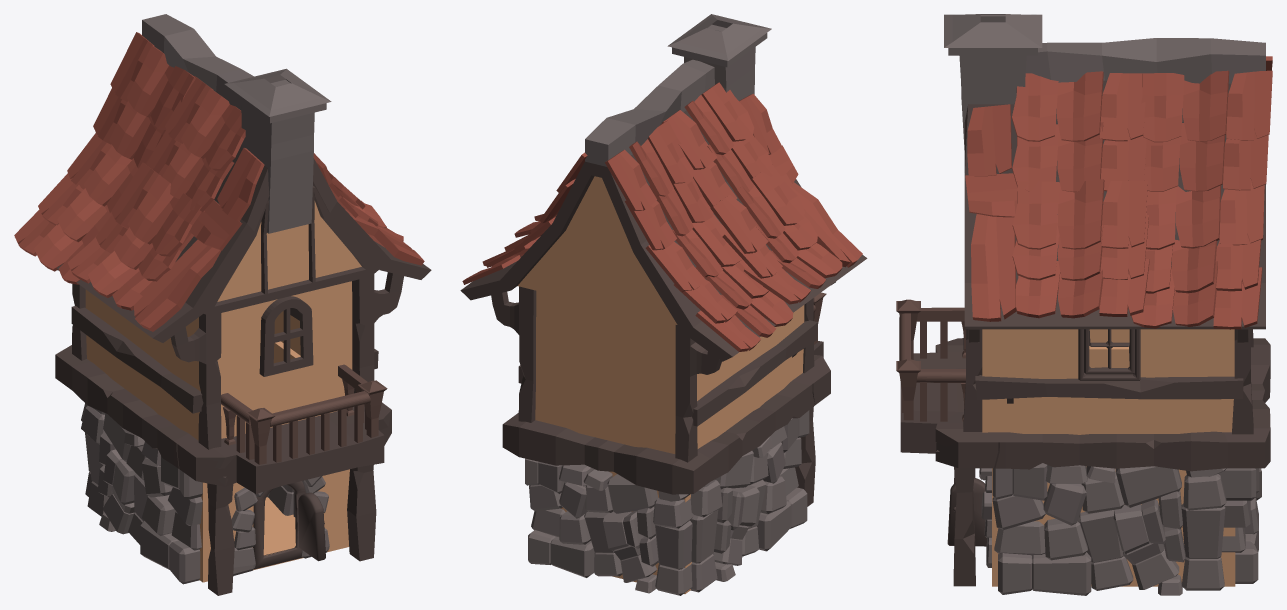
File: maison-petite-2 (source).glb
The picture shows the model from 3 angles, left to right: view 1: azimuth 30°, elevation 25°; view 2: azimuth 150°, elevation 25°; view 3: azimuth 270°, elevation 25°; orthographic projection. The views are drawn at different scales.
Parts seen in each view (by area): view 1: Roof Rocks.001, Wood Frame.001, Building_3, Side Rocks.001, Chimney, Front Grill.001, Roof.001, Roof.002, Door.002, Windows.002_primitive0, Front Rocks; view 2: Roof Rocks.001, Building_3, Wood Frame.001, Back Rocks.001, Side Rocks.001, Roof.001, Roof.002, Chimney; view 3: Roof Rocks.001, Wood Frame.001, Side Rocks.001, Building_3, Roof.002, Chimney, Roof.001, Front Grill.001, Back Rocks.001, Windows.002_primitive0, Door.002, Front Rocks.
Boxes of the visible parts, <box> form: Roof Rocks.001: <box>14,32,424,331</box>; Wood Frame.001: <box>55,186,403,595</box>; Building_3: <box>85,201,361,582</box>; Side Rocks.001: <box>81,405,295,584</box>; Chimney: <box>224,68,331,233</box>; Front Grill.001: <box>221,364,387,464</box>; Roof.001: <box>57,145,431,342</box>; Roof.002: <box>142,14,253,110</box>; Door.002: <box>253,481,325,569</box>; Windows.002_primitive0: <box>259,296,313,376</box>; Front Rocks: <box>231,476,329,575</box>; Roof Rocks.001: <box>462,82,862,351</box>; Building_3: <box>518,176,804,593</box>; Wood Frame.001: <box>491,282,835,506</box>; Back Rocks.001: <box>525,458,694,595</box>; Side Rocks.001: <box>690,410,809,592</box>; Roof.001: <box>460,110,867,361</box>; Roof.002: <box>585,59,714,166</box>; Chimney: <box>667,14,771,100</box>; Roof Rocks.001: <box>965,56,1272,329</box>; Wood Frame.001: <box>900,329,1270,586</box>; Side Rocks.001: <box>992,463,1226,595</box>; Building_3: <box>982,329,1235,586</box>; Roof.002: <box>1025,38,1265,83</box>; Chimney: <box>944,14,1042,149</box>; Roof.001: <box>964,80,1265,329</box>; Front Grill.001: <box>896,299,965,421</box>; Back Rocks.001: <box>1218,468,1261,583</box>; Windows.002_primitive0: <box>1078,329,1140,380</box>; Door.002: <box>947,477,987,546</box>; Front Rocks: <box>979,468,991,567</box>.
Bounding box in the file's own units: 39.44 × 62.66 × 40.37.
